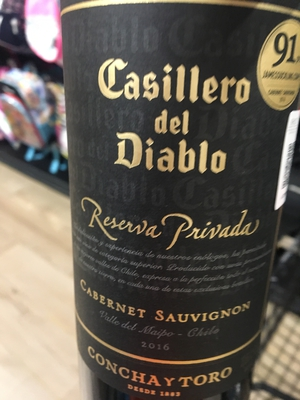casillero del diablo reserva privada cabernet sauvignon: (59, 1, 288, 400)
